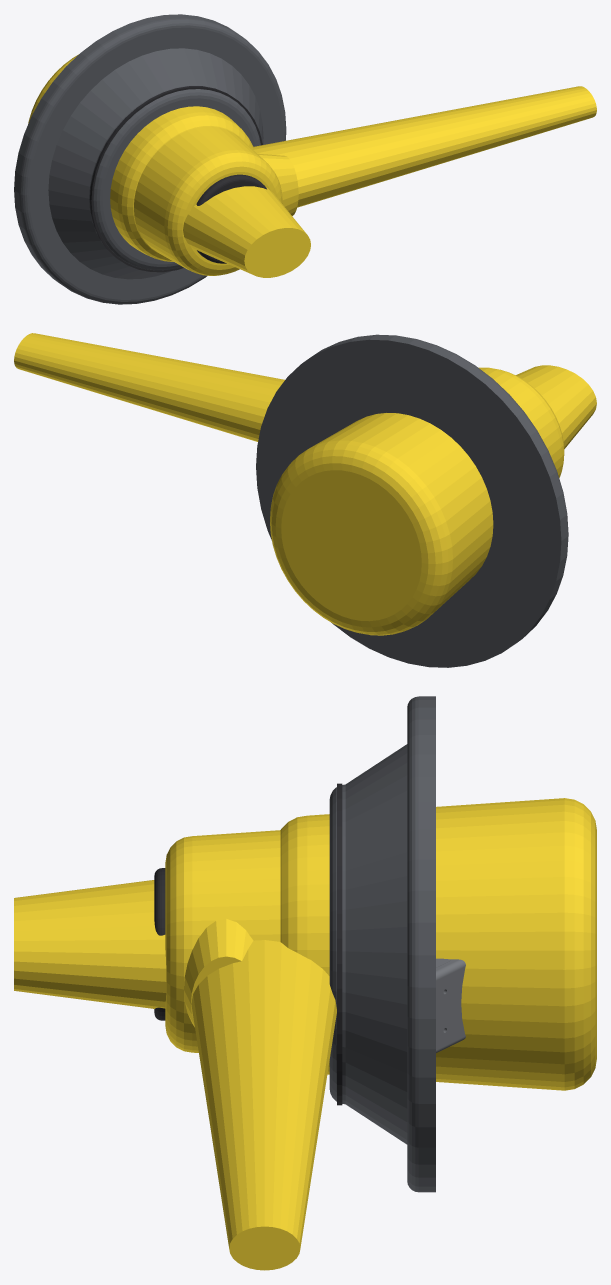
File: arm.glb
3 views of the same model, one above another, from view 1: azimuth 30°, elevation 25°; view 2: azimuth 150°, elevation 25°; view 3: azimuth 270°, elevation 25° (orthographic). The views are drawn at different scales.
Visible parts, largest first — view 1: b1, b5, b3, b2, b4; view 2: b1, b3, b5, b2; view 3: b3, b1, b5, b2, b4, b10.
Boxes of the visible parts, x1,y1,x2,y2 form: b1: [14, 14, 286, 304]; b5: [252, 86, 596, 207]; b3: [28, 54, 310, 277]; b2: [134, 126, 282, 275]; b4: [257, 153, 298, 215]; b1: [256, 334, 568, 667]; b3: [270, 365, 596, 635]; b5: [14, 333, 284, 441]; b2: [478, 367, 564, 477]; b3: [14, 798, 596, 1090]; b1: [329, 696, 435, 1192]; b5: [191, 940, 336, 1270]; b2: [154, 830, 280, 1052]; b4: [184, 918, 253, 1027]; b10: [436, 958, 465, 1052].
Bounding box in the file's own units: 0.4544 × 0.2331 × 0.2738.
